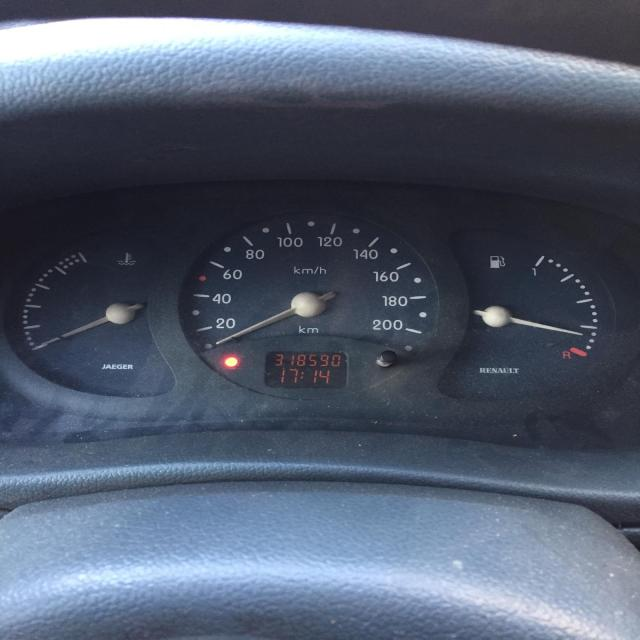odometer: (262, 349, 350, 389)
